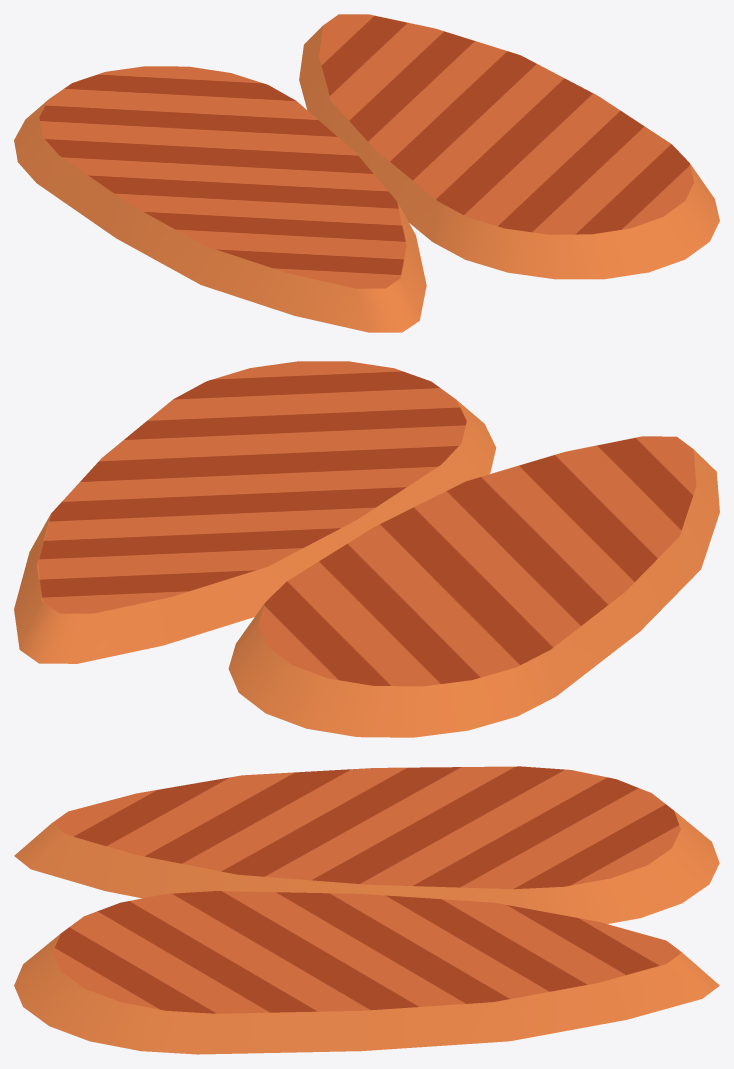
Rendered from Chicken_Slice_Chicken_0.glb.
3 renders of one model, top to bottom at view 1: azimuth 30°, elevation 25°; view 2: azimuth 150°, elevation 25°; view 3: azimuth 270°, elevation 25°, orthographic. The views are drawn at different scales.
Parts seen in each view (by area): view 1: Chicken_Slice_Chicken_0; view 2: Chicken_Slice_Chicken_0; view 3: Chicken_Slice_Chicken_0.
Boxes of the visible parts, x1,y1,x2,y2 form: Chicken_Slice_Chicken_0: (14, 14, 719, 332); Chicken_Slice_Chicken_0: (14, 361, 719, 737); Chicken_Slice_Chicken_0: (14, 766, 719, 1054).
Bounding box in the file's own units: 0.1691 × 0.01 × 0.1925.
1 material, 1 textured.
